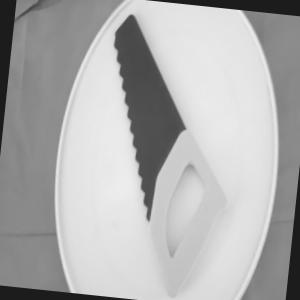serrote: (86, 10, 246, 300)
